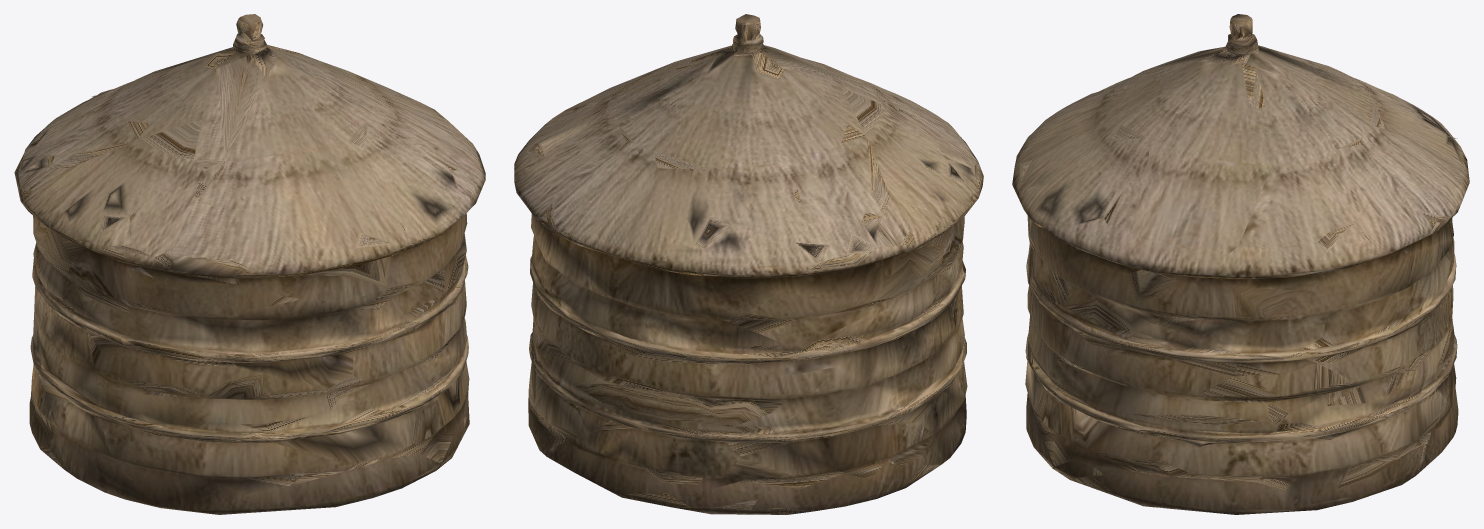
File: heap_round_lod1-2.glb
The picture shows the model from 3 angles, left to right: view 1: azimuth 30°, elevation 25°; view 2: azimuth 150°, elevation 25°; view 3: azimuth 270°, elevation 25°; orthographic projection.
Visible parts, largest first — view 1: node_0; view 2: node_0; view 3: node_0.
Boxes of the visible parts, x1,y1,x2,y2 form: node_0: (14, 14, 485, 514); node_0: (514, 14, 983, 514); node_0: (1012, 14, 1469, 514).
Bounding box in the file's own units: 3.24 × 3.11 × 3.17.
1 material, 1 textured.
